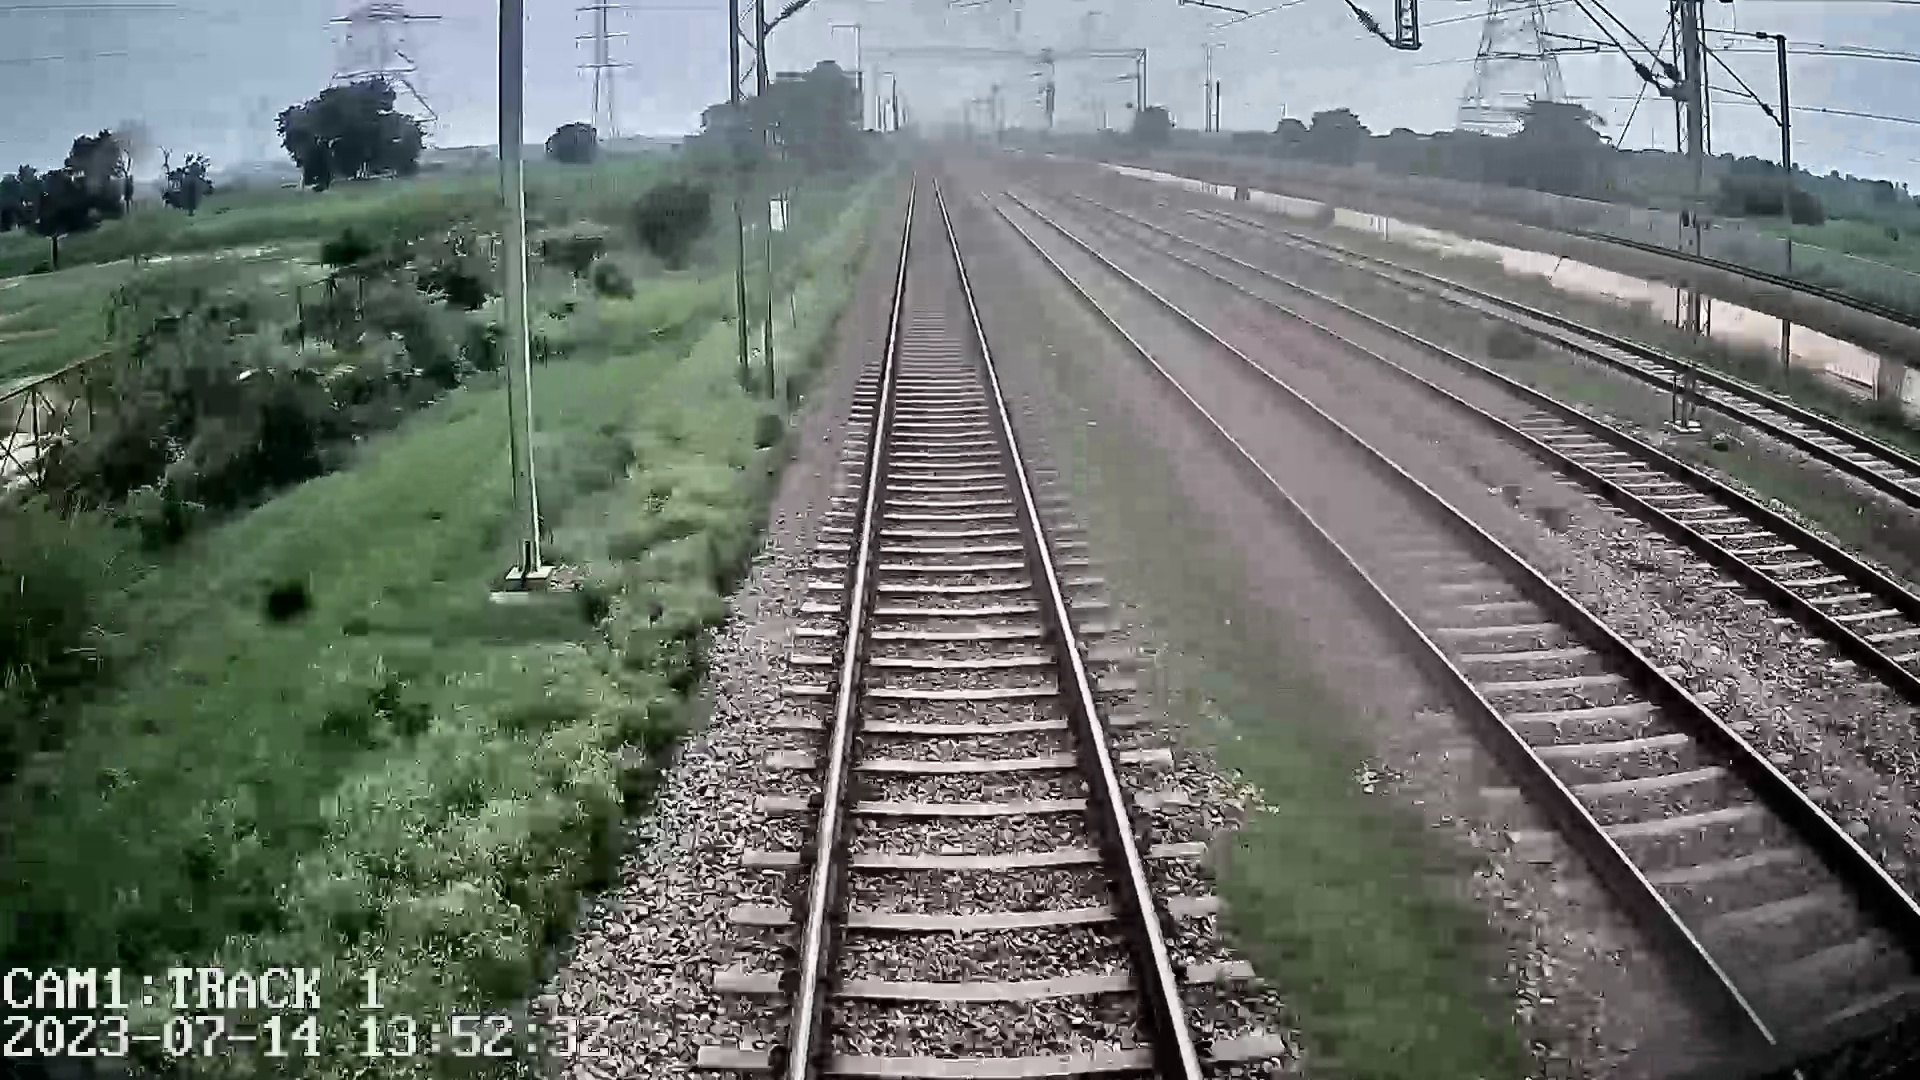track1: (796, 181, 1188, 1072)
track2: (981, 191, 1919, 1035)
track3: (1135, 229, 1919, 667)
track4: (1303, 244, 1919, 496)
